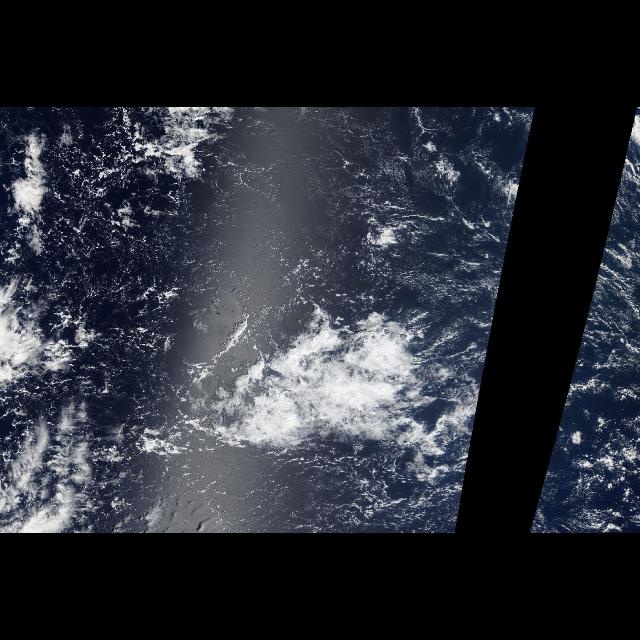Gravel: (12, 108, 252, 322)
Sugar: (297, 108, 493, 282)
